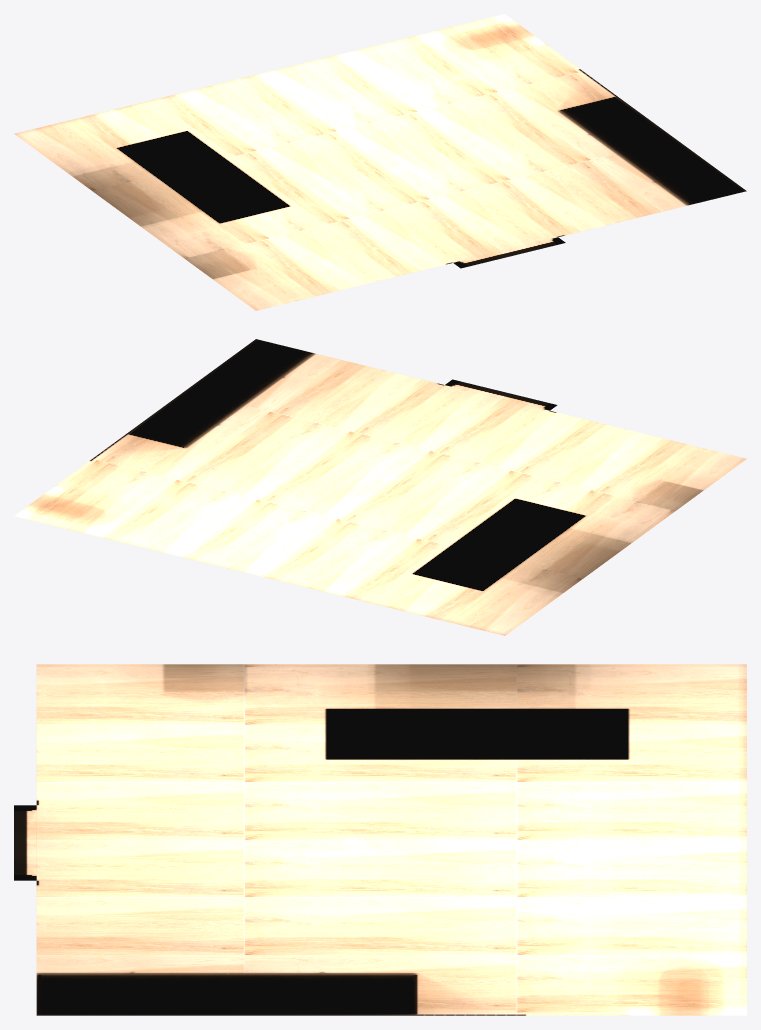
Rendered from oakwood.glb.
3 renders of one model, top to bottom at view 1: azimuth 30°, elevation 25°; view 2: azimuth 150°, elevation 25°; view 3: azimuth 270°, elevation 25°, orthographic. The views are drawn at different scales.
Parts seen in each view (by area): view 1: floor_oakwood; view 2: floor_oakwood; view 3: floor_oakwood.
Boxes of the visible parts, x1,y1,x2,y2 form: floor_oakwood: (14, 14, 746, 310); floor_oakwood: (14, 339, 746, 635); floor_oakwood: (14, 664, 746, 1015).
Bounding box in the file's own units: 3.67 × 5.31e-07 × 3.23.
1 material, 1 textured.
